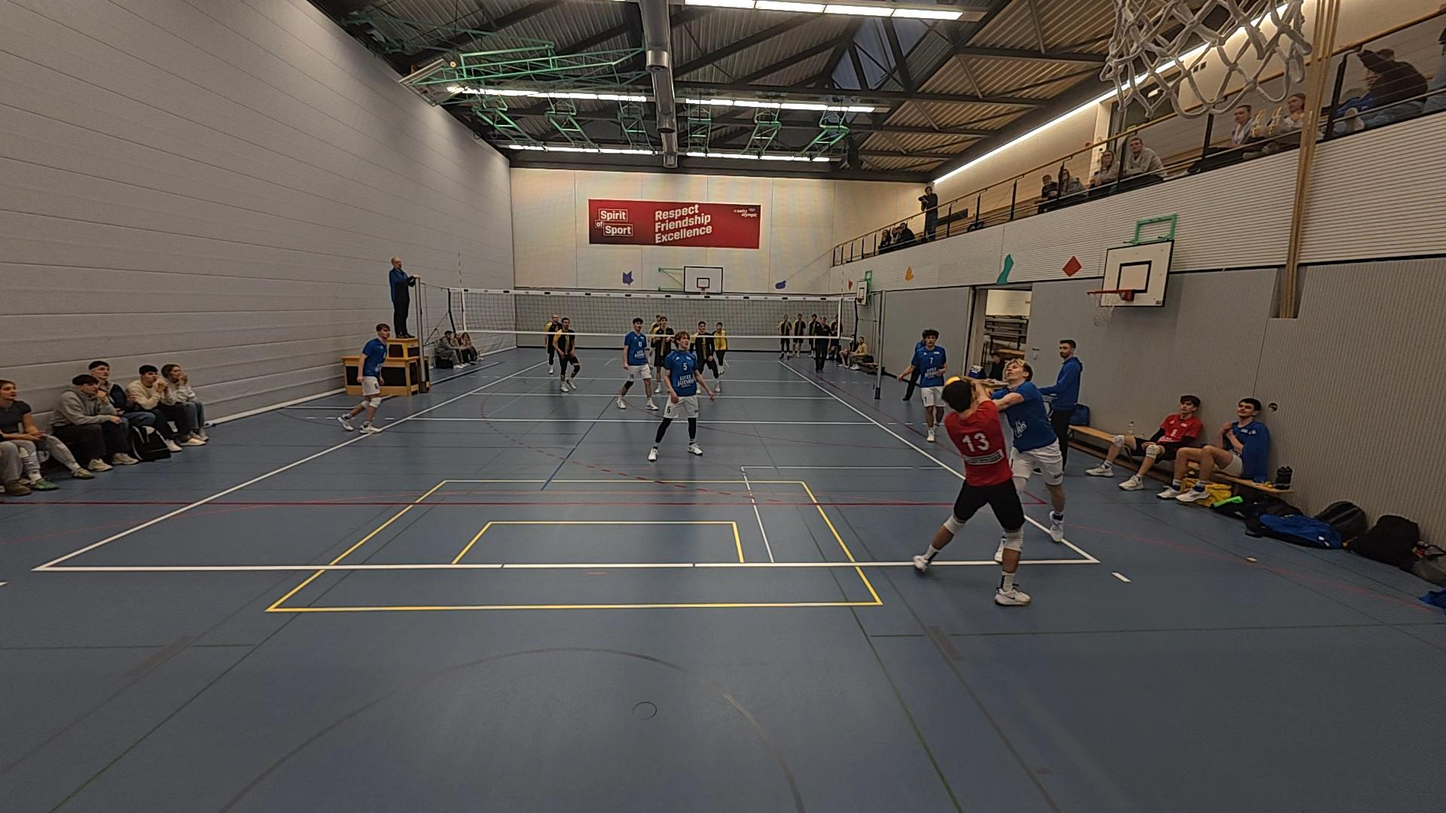Dig: (907, 366, 1038, 607)
Player: (974, 350, 1068, 544), (648, 335, 703, 460), (339, 324, 391, 433), (901, 329, 947, 443), (614, 318, 659, 410), (687, 315, 722, 394), (647, 316, 676, 396), (554, 317, 581, 391), (542, 313, 563, 375), (642, 310, 662, 370), (710, 320, 729, 375)
ball: (941, 371, 962, 389)
